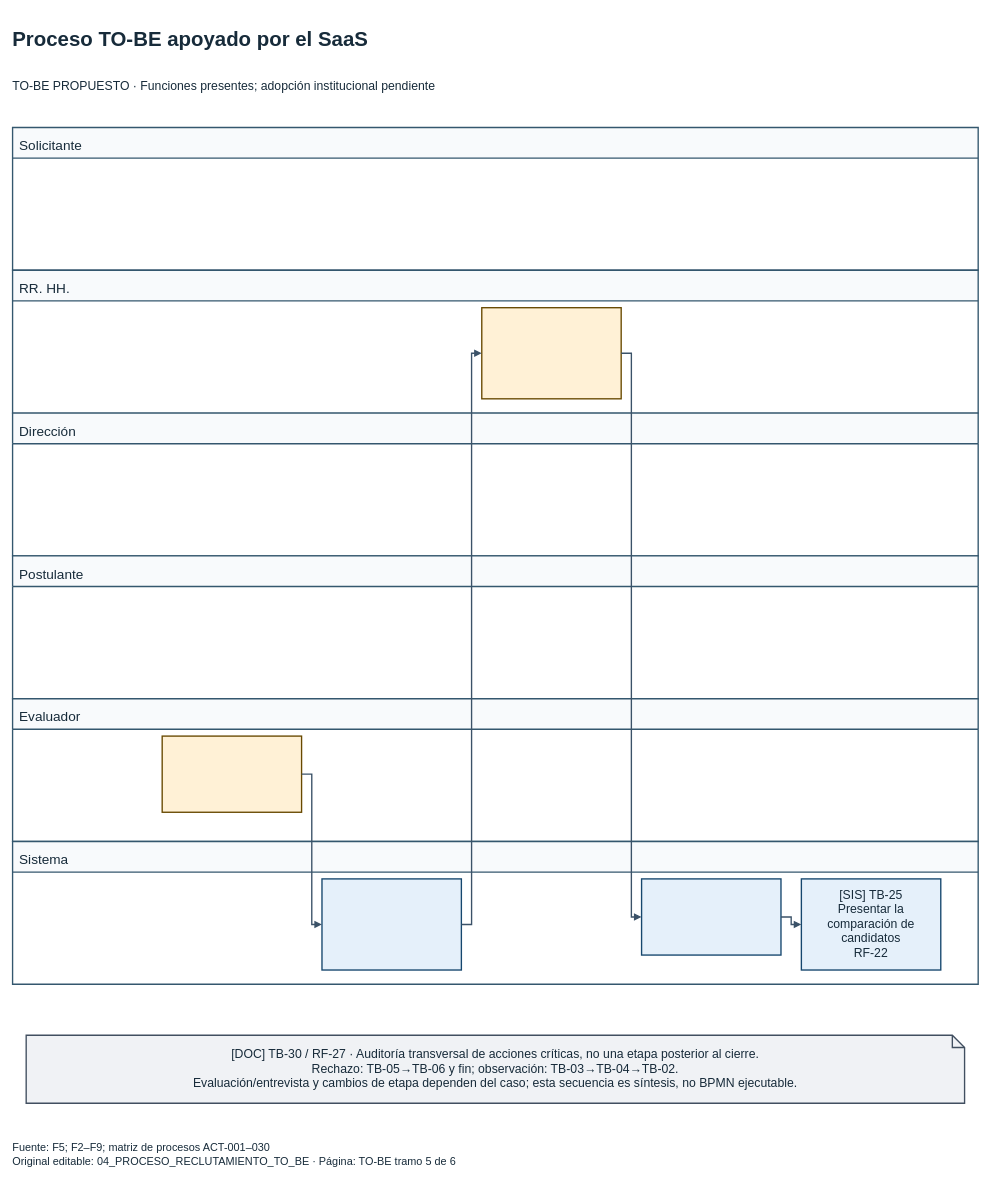
Some shapes in this 990 by 1187 pixel diagram are drawn without their labels. Each missing label, with the centre of its shape:
"[H] TB-21 Registrar puntajes, resultado y observaciones RF-19" belongs at (x=231, y=774).
"[H] TB-23 Actualizar la etapa de la postulación (finalista o descarte) RF-14" belongs at (x=551, y=353).
"[SIS] TB-22 Validar los puntajes dentro del rango de cada criterio RF-20" belongs at (x=391, y=924).
"[SIS] TB-24 Calcular el ranking ponderado explicable RF-21" belongs at (x=711, y=916).
